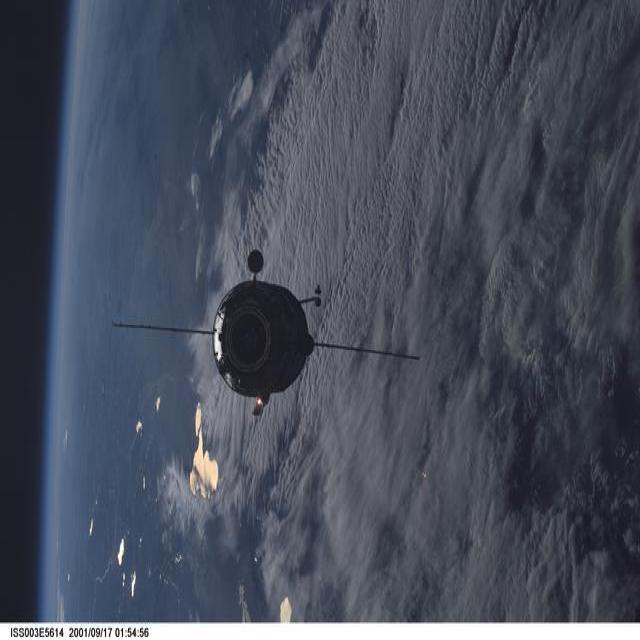medium_debris: (112, 251, 419, 413)
